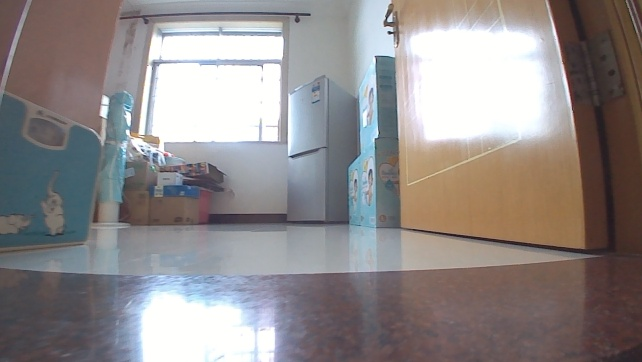door_anno: (380, 0, 641, 273)
refrigerator: (283, 73, 358, 225)
weight_scale: (0, 91, 103, 252)
